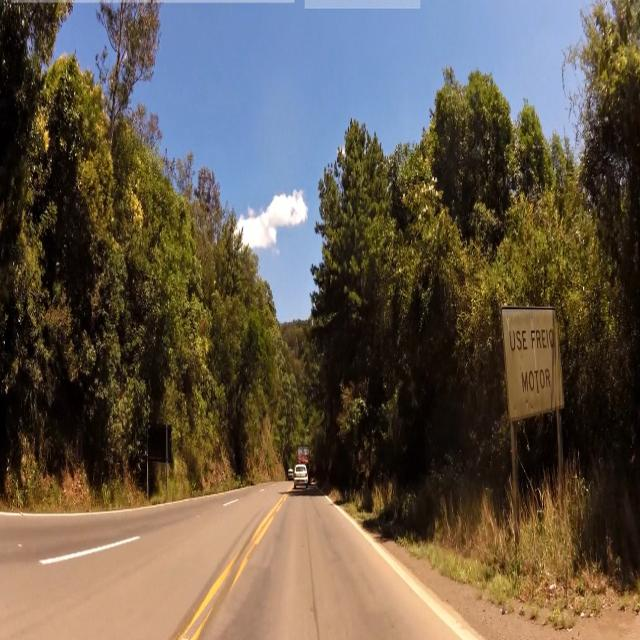E-5: (505, 309, 562, 410)
